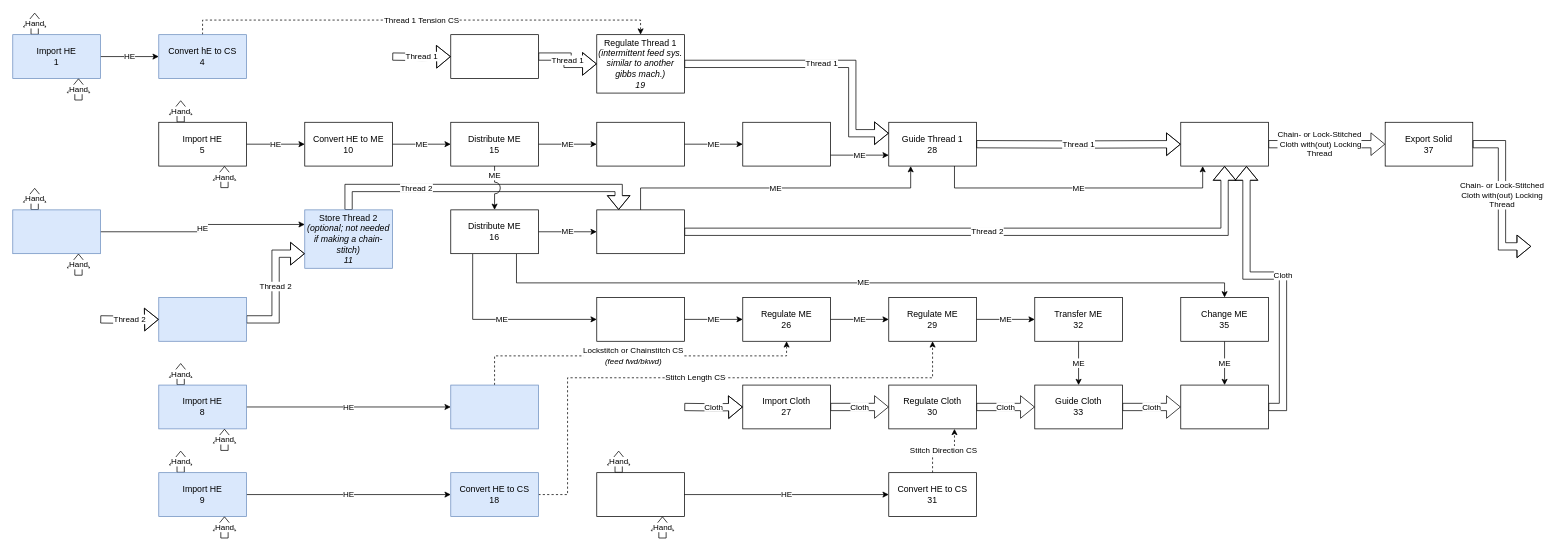
Some shapes in this 1556 by 550 pixel diagram are drawn without their labels. The centre of each missing label's shape, as x and y in pixels:
"Change ME 20" goes at pixel 640 144.
"Change ME 22" goes at pixel 640 319.
"Convert HE to CS 17" goes at pixel 494 406.
"Couple Solids 34" goes at pixel 1224 144.
"Import HE 23" goes at pixel 640 494.
"Import HE 3" goes at pixel 56 231.
"Import Thread 1 14" goes at pixel 494 56.
"Import Thread 2 7" goes at pixel 202 319.
"Secure Cloth 36" goes at pixel 1224 406.
"Supply Thread 2 21" goes at pixel 640 231.
"Transfer ME 25" goes at pixel 786 144.
